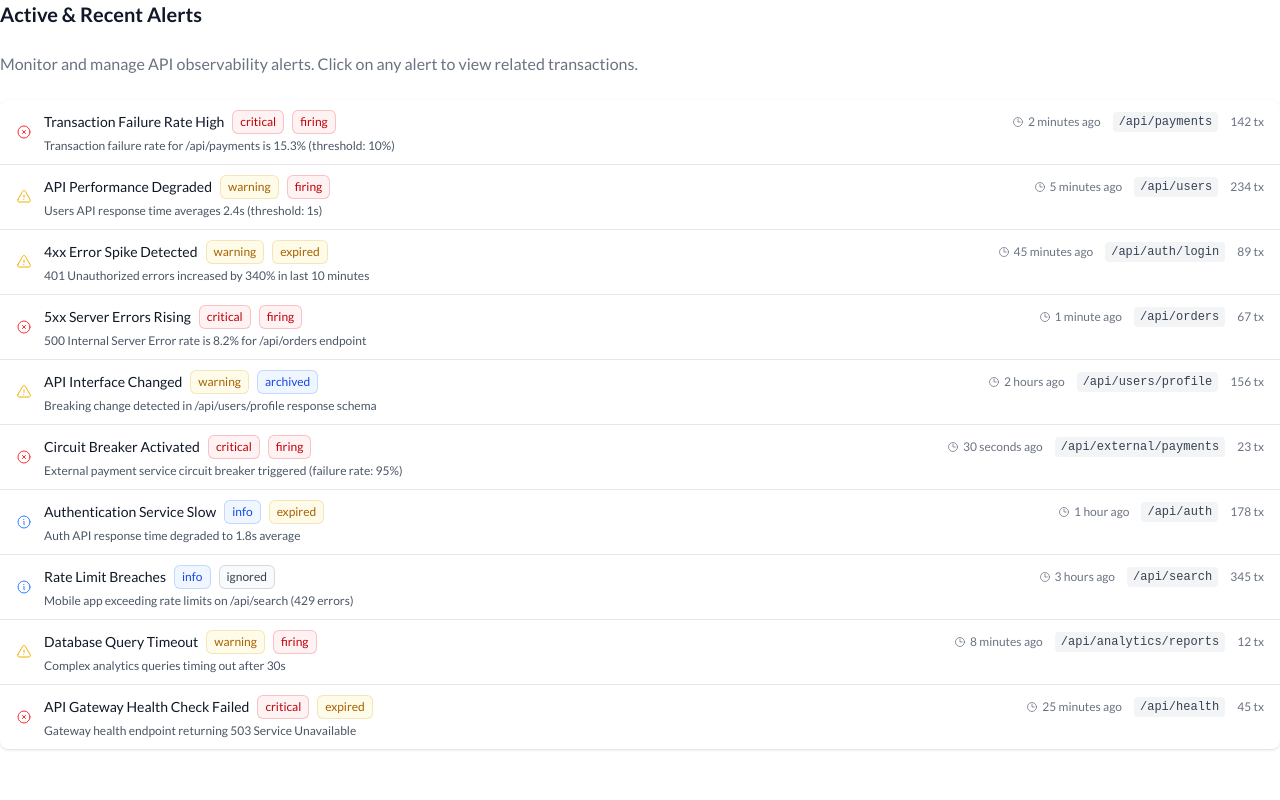
Test case: AlertsPage › opens drawer when alert is clicked
Check: the text "Transactions for:" is not shown
Click on the first alert
Click the heading "Transaction Failure Rate High" at x=134, y=122, box [44,112,224,132]
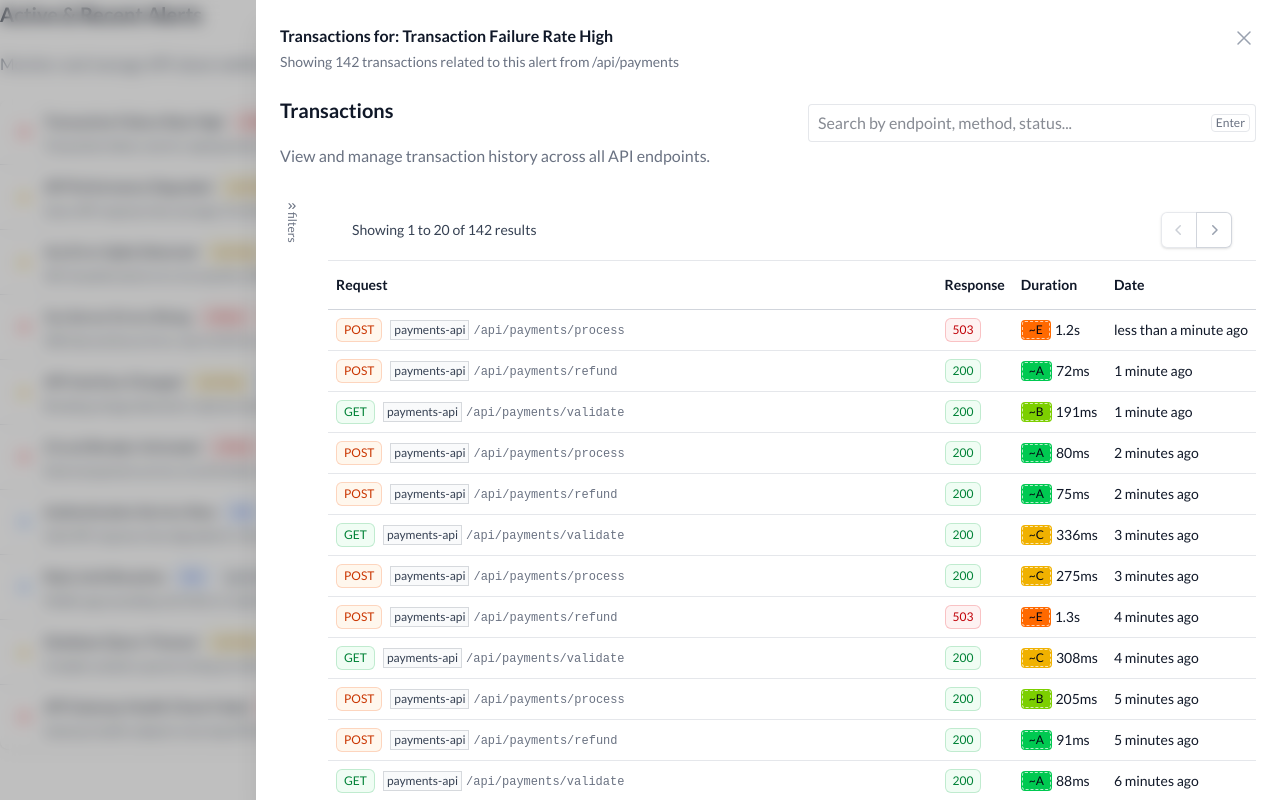
Check: the heading "Transactions for: Transaction Failure Rate High" is shown, box [280,26,613,45]
Check: the text "Showing 142 transactions related to this alert" is shown, box [280,53,679,70]
